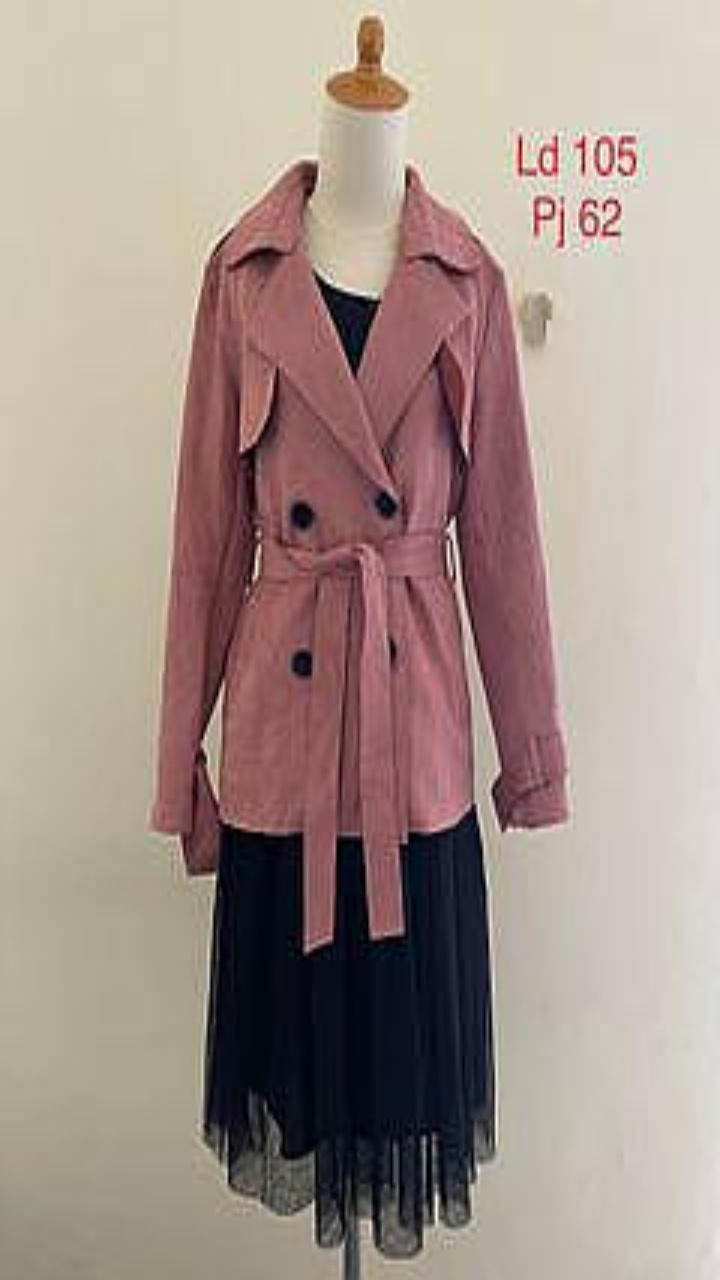Coat: (150, 158, 568, 950)
Dresses: (202, 804, 495, 1256)
